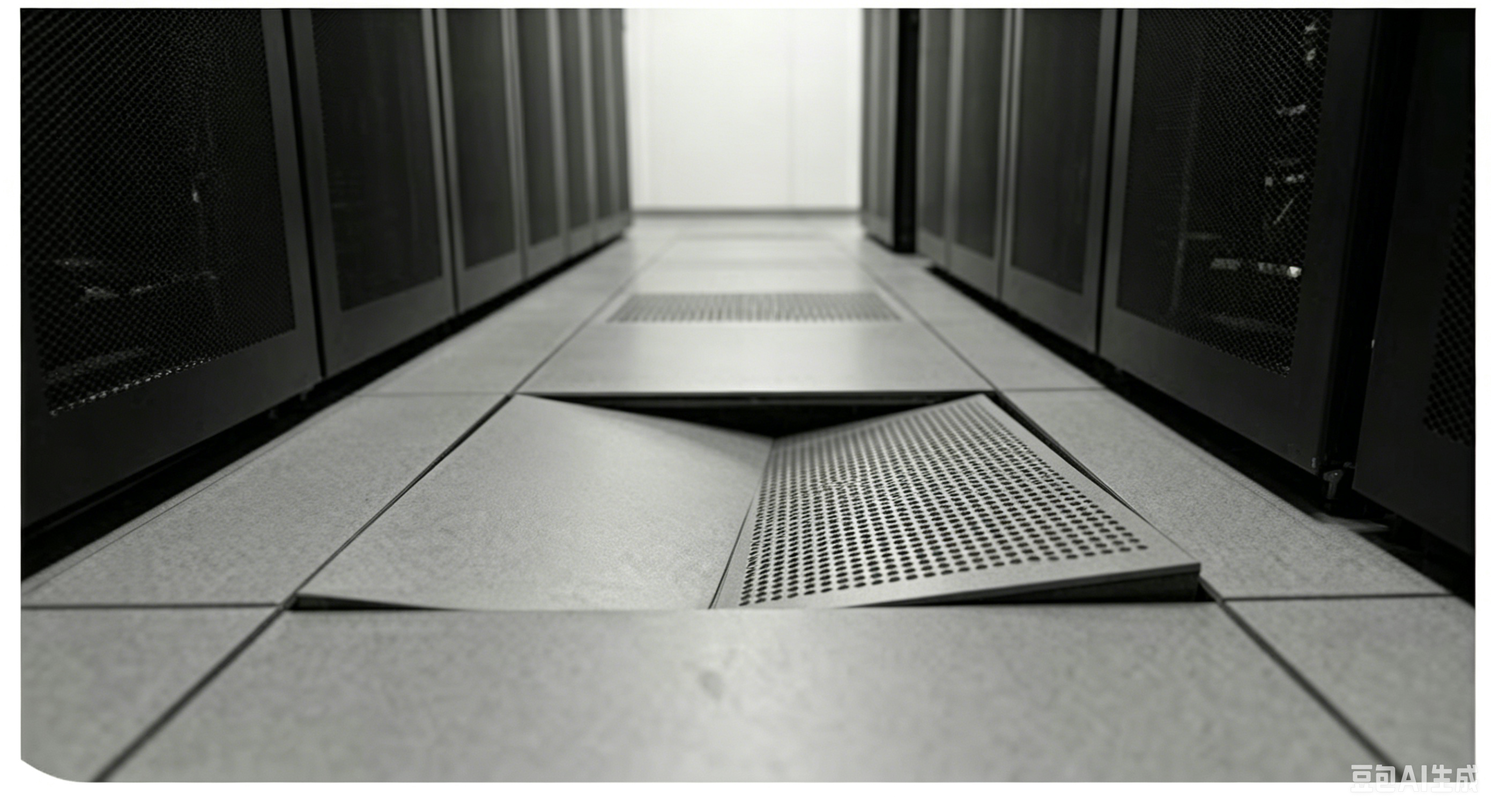floor_defect: (274, 391, 1219, 626)
